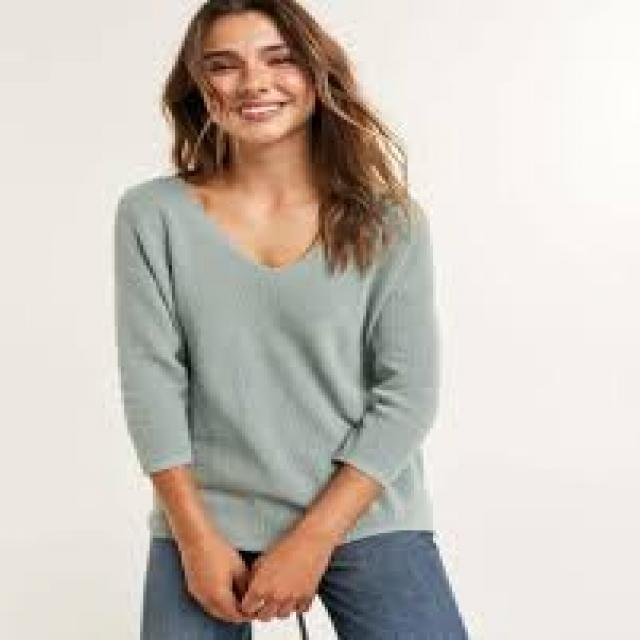plain: (99, 163, 458, 553)
